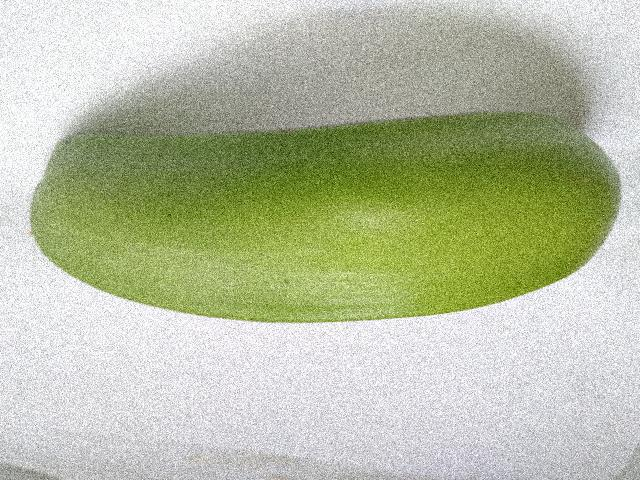freshunripe: (16, 80, 626, 340)
